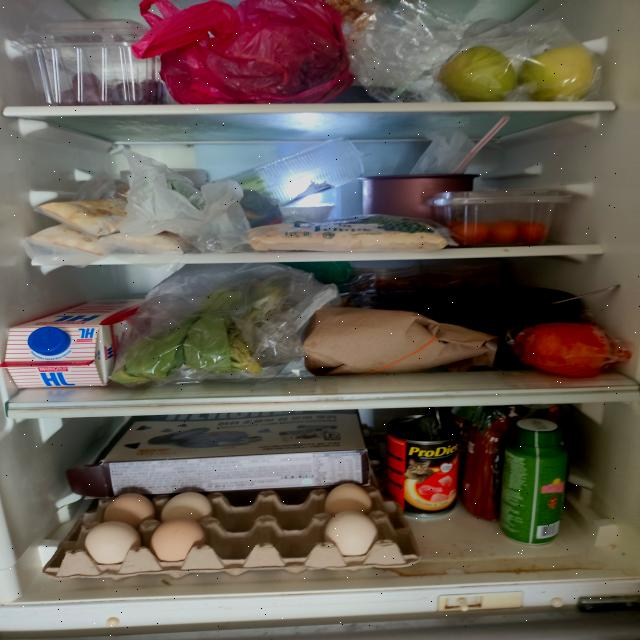apple: (438, 44, 600, 102)
grape: (60, 72, 167, 105)
tempeh: (42, 483, 420, 579), (110, 278, 286, 386), (30, 196, 193, 256), (246, 222, 448, 252), (524, 323, 612, 377)
unknown_bag: (132, 0, 356, 105)
